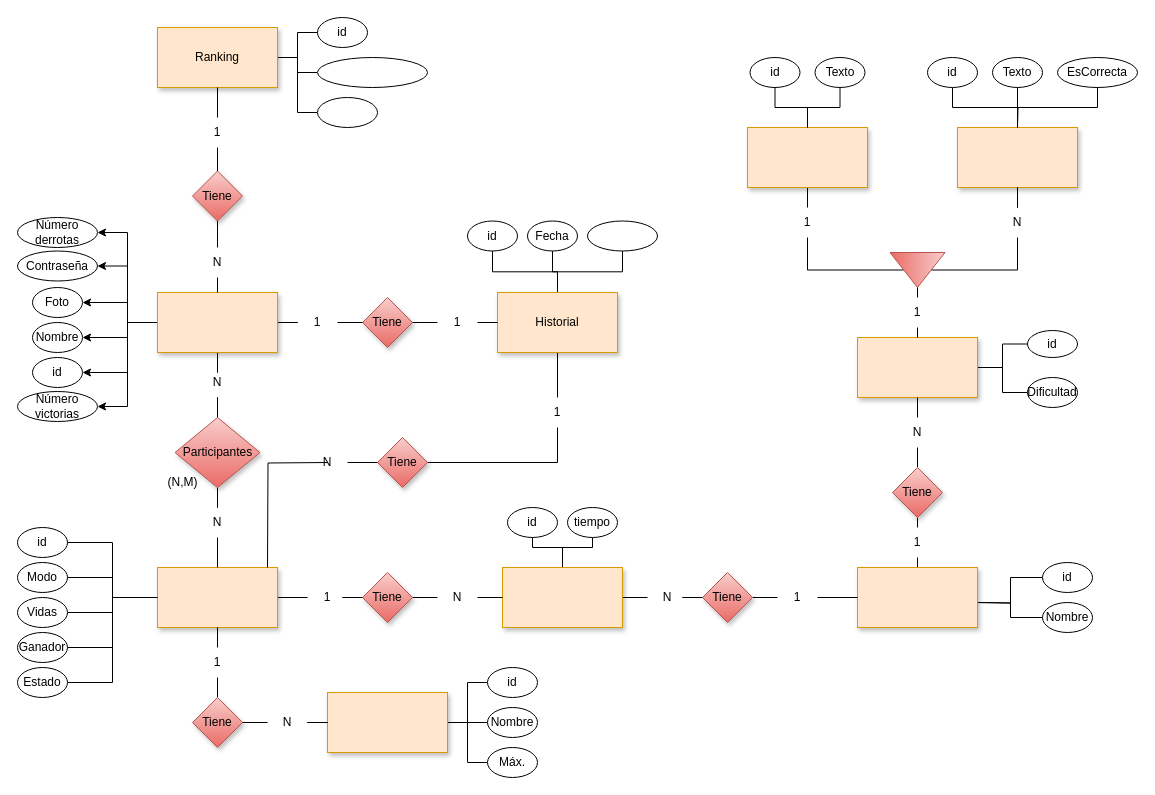
This 1155x795 diagram has some shape labels left out. Here are the shapes that lost their labels. From the top down, the centre of each, then its label:
At [372,72]: "Nombre_usuario".
At [347,112]: "Rondas".
At [808,158]: "Pregunta".
At [1018,158]: "Respuesta".
At [622,235]: "Resultado".
At [218,324]: "Usuario".
At [918,368]: "Tarjeta".
At [218,598]: "Partida".
At [563,598]: "Ronda".
At [918,598]: "Categoría".
At [388,724]: "Comodín".
